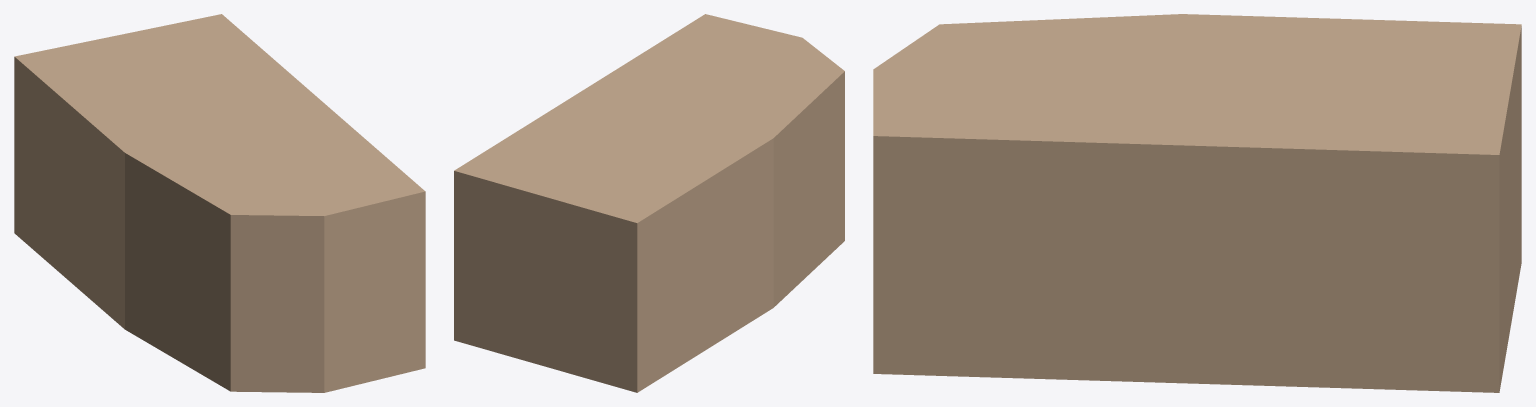
Rendered from substation.gltf.
The picture shows the model from 3 angles, left to right: view 1: azimuth 30°, elevation 25°; view 2: azimuth 150°, elevation 25°; view 3: azimuth 270°, elevation 25°; orthographic projection. The views are drawn at different scales.
Parts seen in each view (by area): view 1: Node2, Node8, Node4, Node6, Node7; view 2: Node2, Node3, Node8, Node4; view 3: Node5, Node2, Node3.
Boxes of the visible parts, x1,y1,x2,y2 form: Node2: [14, 14, 425, 215]; Node8: [14, 57, 124, 329]; Node4: [125, 153, 230, 391]; Node6: [324, 191, 425, 392]; Node7: [230, 215, 324, 392]; Node2: [454, 14, 844, 222]; Node3: [454, 171, 637, 392]; Node8: [637, 138, 773, 392]; Node4: [773, 71, 844, 307]; Node5: [873, 136, 1499, 392]; Node2: [873, 14, 1521, 154]; Node3: [1499, 26, 1521, 392].
Size of the model in its own units: 467 by 367 by 907.
